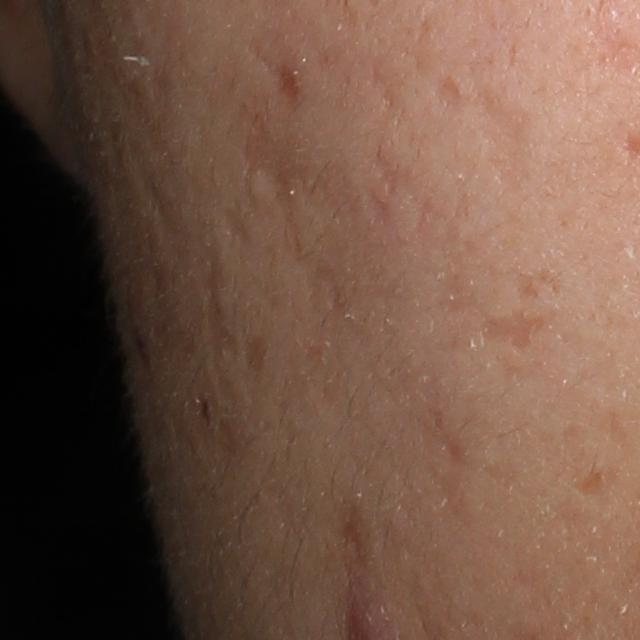atrophic_scar: (236, 108, 318, 230), (464, 87, 535, 195), (194, 251, 238, 411), (477, 302, 554, 353), (262, 49, 304, 111), (339, 497, 375, 565), (432, 74, 464, 110), (570, 472, 607, 499)
